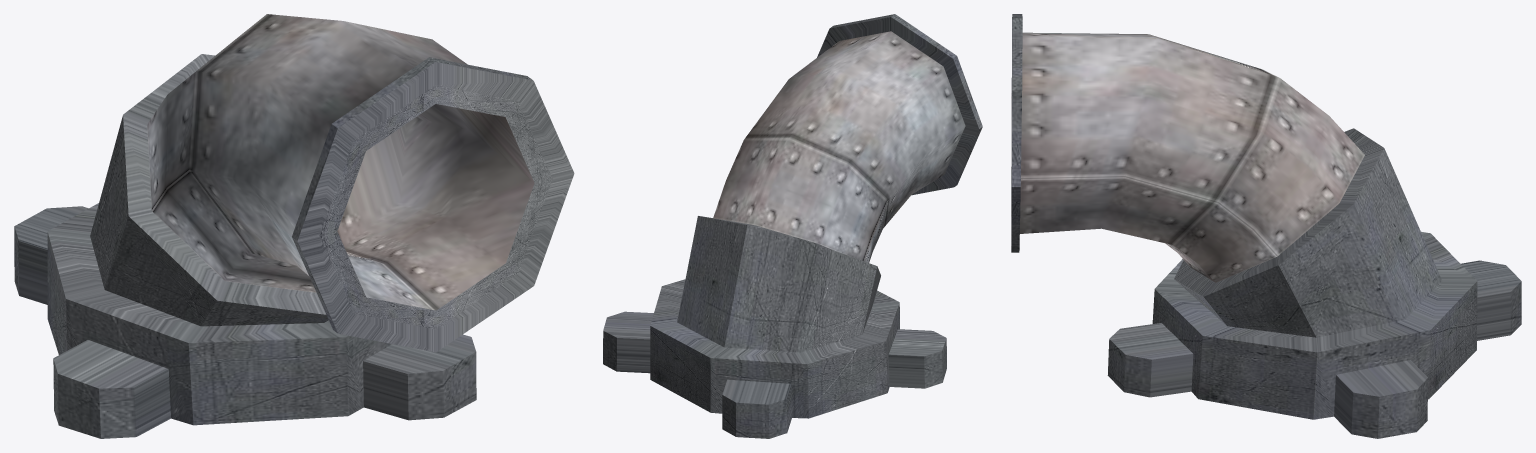
Rendered from pipe_J.glb.
The picture shows the model from 3 angles, left to right: view 1: azimuth 30°, elevation 25°; view 2: azimuth 150°, elevation 25°; view 3: azimuth 270°, elevation 25°; orthographic projection. The views are drawn at different scales.
Parts seen in each view (by area): view 1: zhuti.J; view 2: zhuti.J; view 3: zhuti.J.
Part boxes in pixels (x1,y1,x2,y2): zhuti.J: [14, 14, 574, 438]; zhuti.J: [603, 14, 982, 438]; zhuti.J: [1011, 14, 1521, 438].
Bounding box in the file's own units: 6.86 × 6.09 × 8.45.
Materials: 2 (2 with a texture image).
